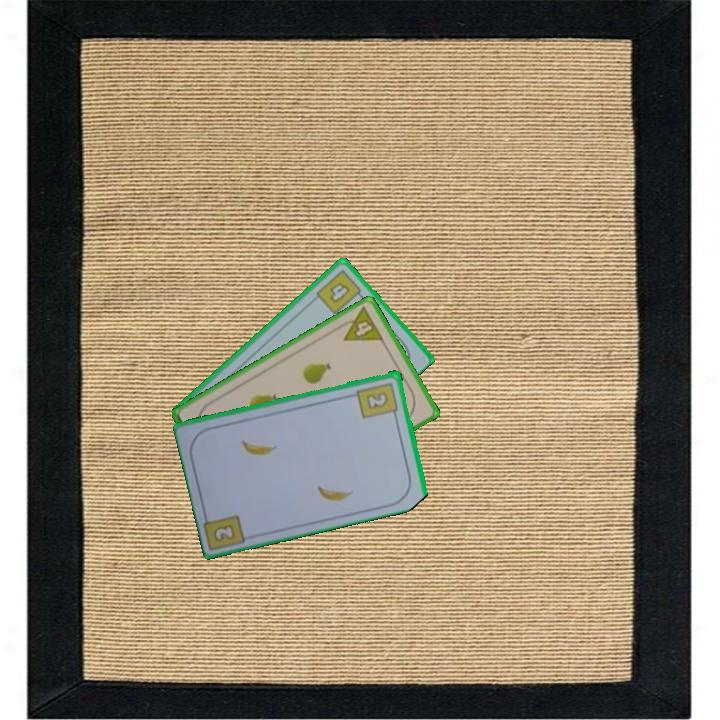2b: (354, 378, 401, 421), (210, 520, 238, 544)
4b: (312, 266, 367, 317)
4p: (334, 303, 386, 344)
